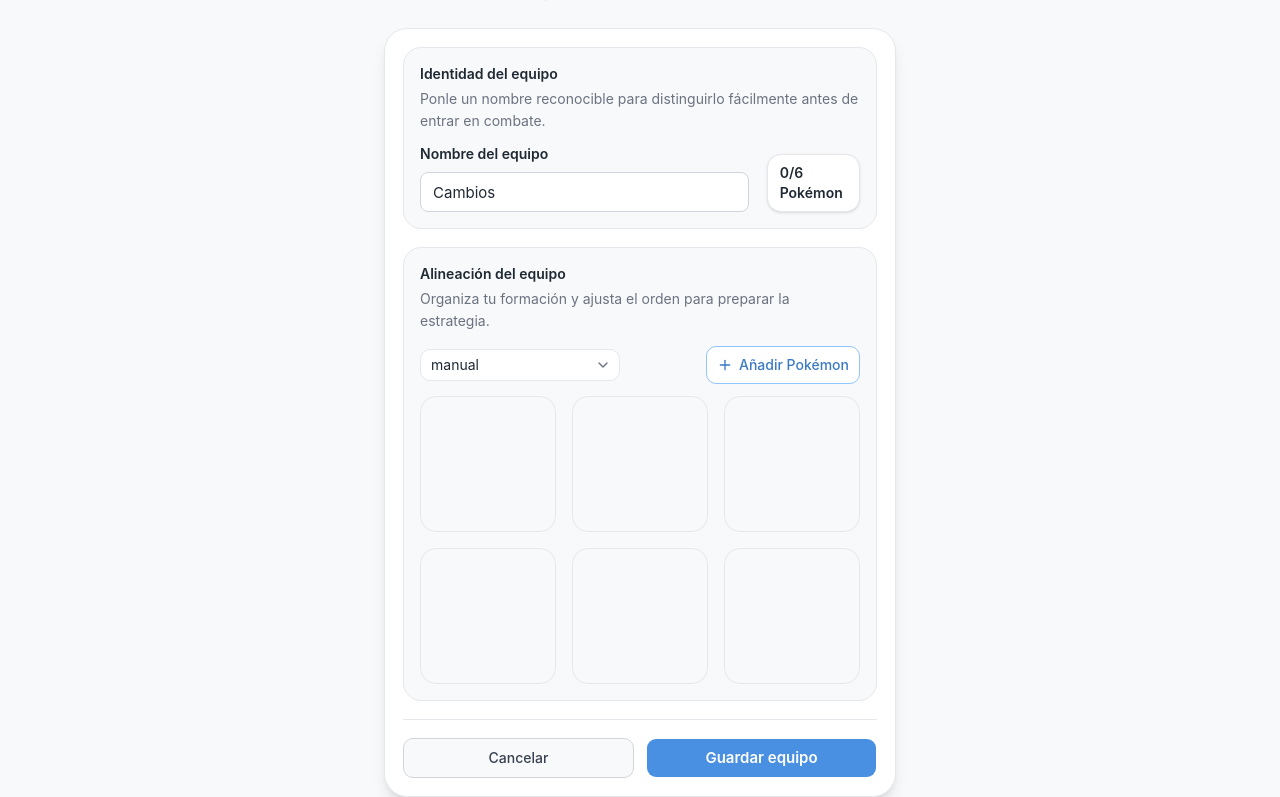
Test: TeamBuilderPage › cancelar creación › debería abrir el dialog de confirmación si hay cambios en el draft
(page scrolled)
What coordinates should you click on to do the following:
click the button "Cancelar"
I would click on:
 (518, 758)
Its box is [403,738,634,778].
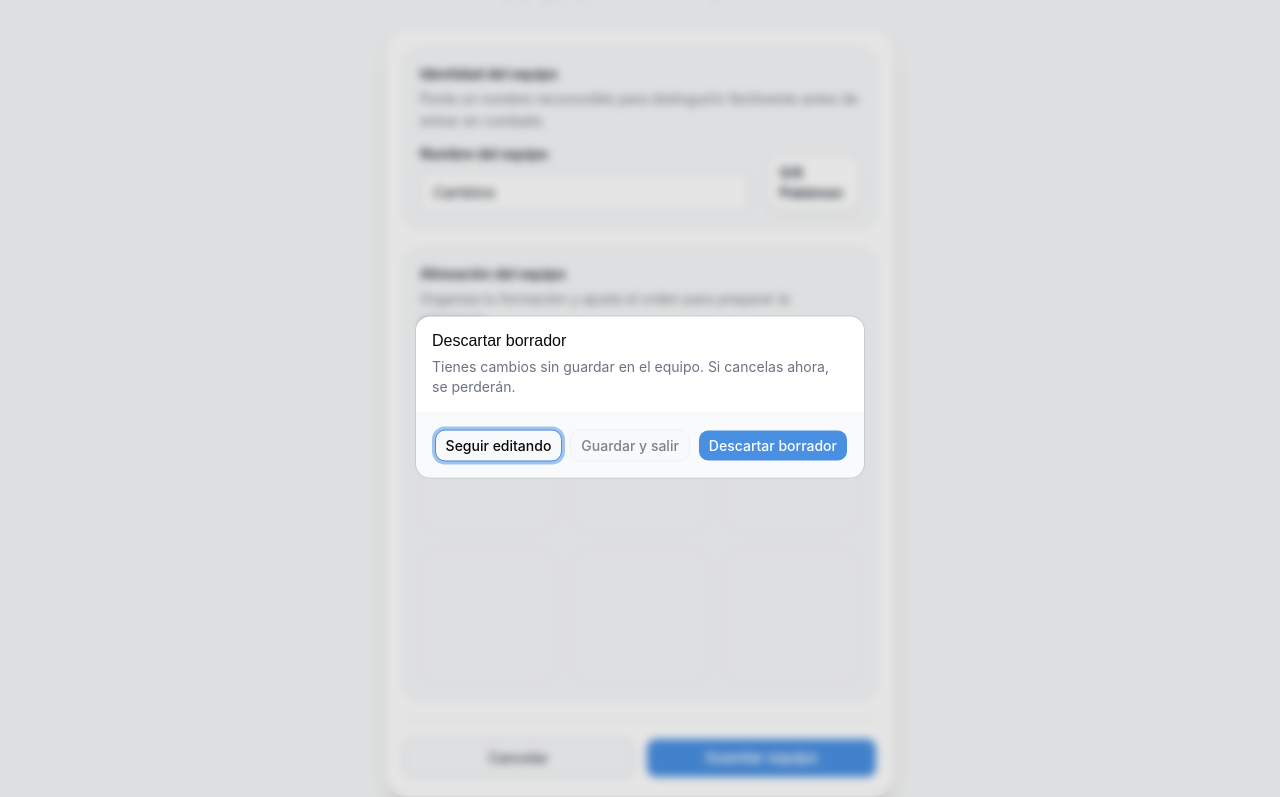
Check: the heading "Descartar borrador" is shown, box [432,332,566,348]
